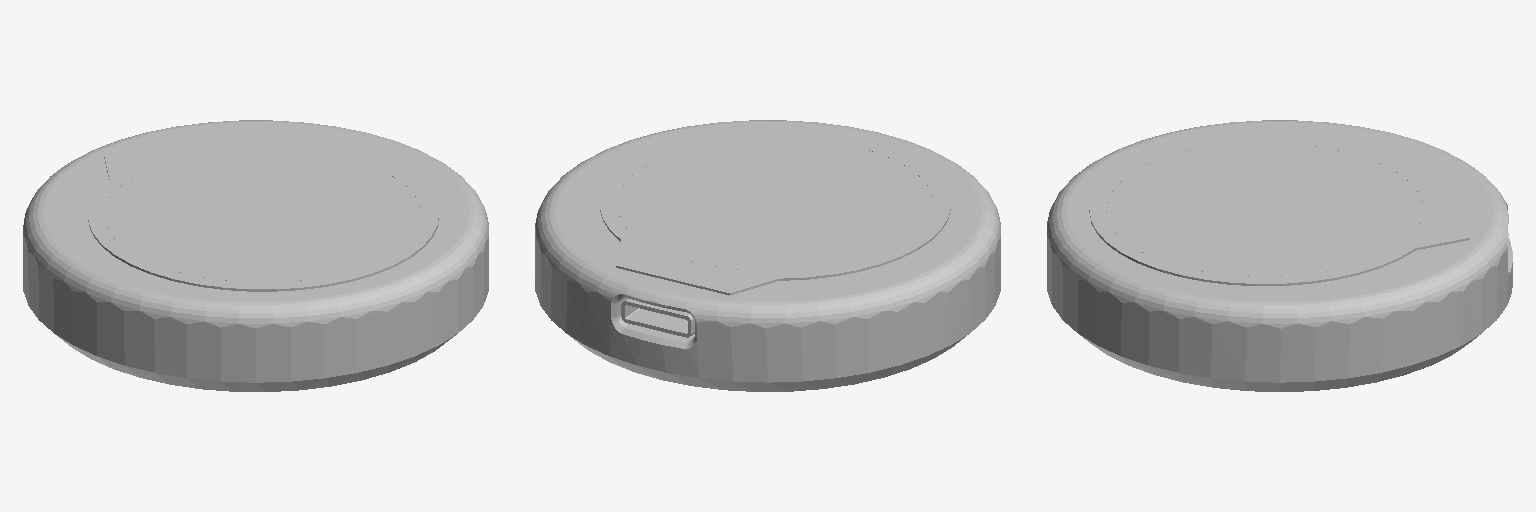
File: finalqpin.obj
3 views of the same model, side by side, from view 1: azimuth 30°, elevation 25°; view 2: azimuth 150°, elevation 25°; view 3: azimuth 270°, elevation 25° (orthographic).
Parts seen in each view (by area): view 1: New Design, Mock Screen, Mock Screen Body; view 2: New Design, Mock Screen, Mock Screen Body, Mock Charging Port; view 3: New Design, Mock Screen, Mock Screen Body.
Part boxes in pixels (bbox=[...]): New Design: bbox=[23, 120, 488, 391]; Mock Screen: bbox=[105, 148, 421, 281]; Mock Screen Body: bbox=[88, 126, 438, 291]; New Design: bbox=[535, 120, 1000, 391]; Mock Screen: bbox=[617, 137, 933, 271]; Mock Screen Body: bbox=[600, 130, 950, 295]; Mock Charging Port: bbox=[621, 298, 694, 337]; New Design: bbox=[1047, 120, 1512, 391]; Mock Screen: bbox=[1107, 143, 1423, 276]; Mock Screen Body: bbox=[1089, 136, 1469, 285].
Bounding box in the file's own units: 4.7 × 1.02 × 4.69.